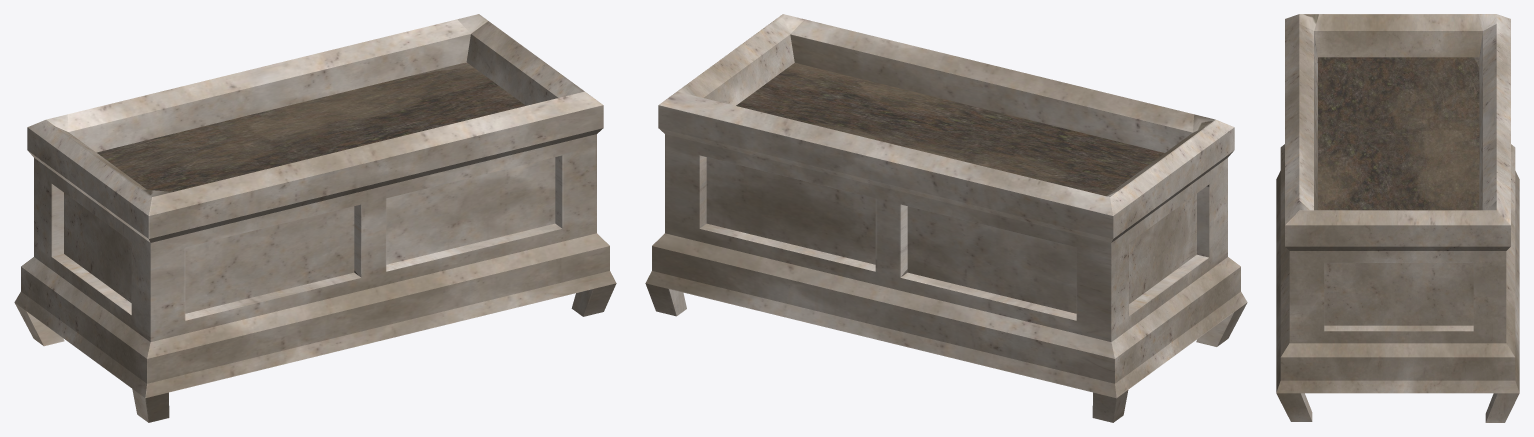
File: trough.glb
3 renders of one model, left to right at view 1: azimuth 30°, elevation 25°; view 2: azimuth 150°, elevation 25°; view 3: azimuth 270°, elevation 25°, orthographic. The views are drawn at different scales.
Parts seen in each view (by area): view 1: trough; view 2: trough; view 3: trough.
Boxes of the visible parts, box(x1,y1,x2,y2) form: trough: box(14, 14, 616, 422); trough: box(645, 14, 1247, 422); trough: box(1276, 14, 1519, 422).
Bounding box in the file's own units: 1 × 0.4472 × 0.4812.
1 material, 1 textured.
